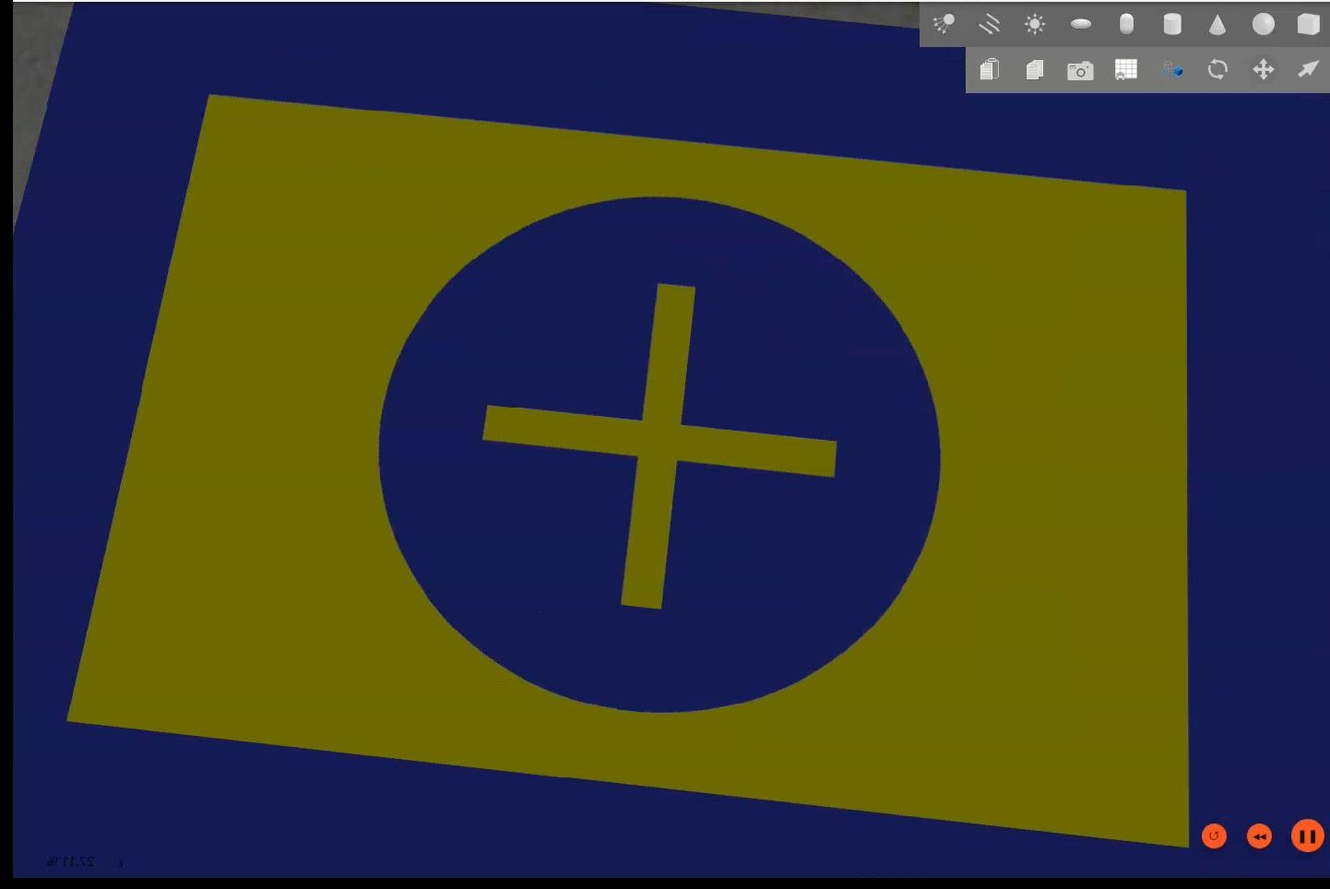large_base: (12, 3, 1328, 883)
